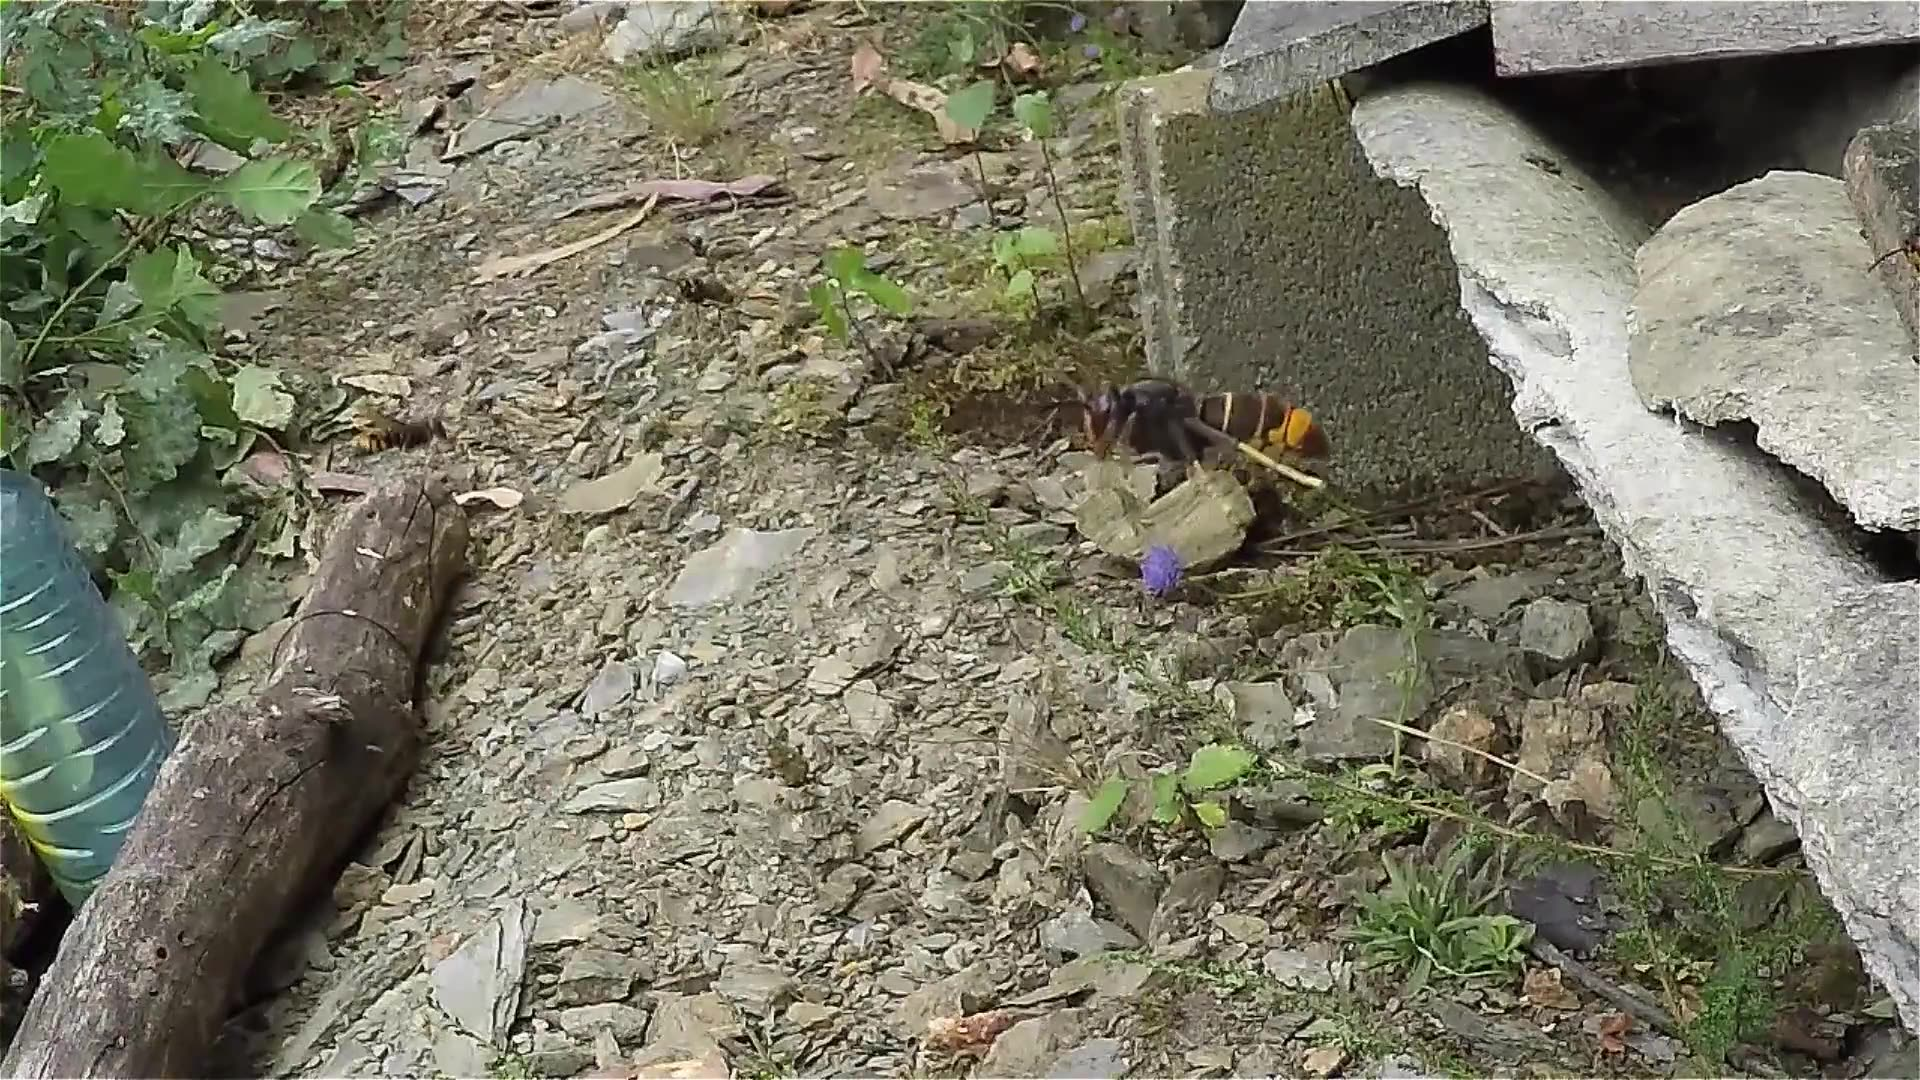hornet: (1081, 363, 1338, 492), (344, 410, 455, 464), (669, 270, 753, 316)
